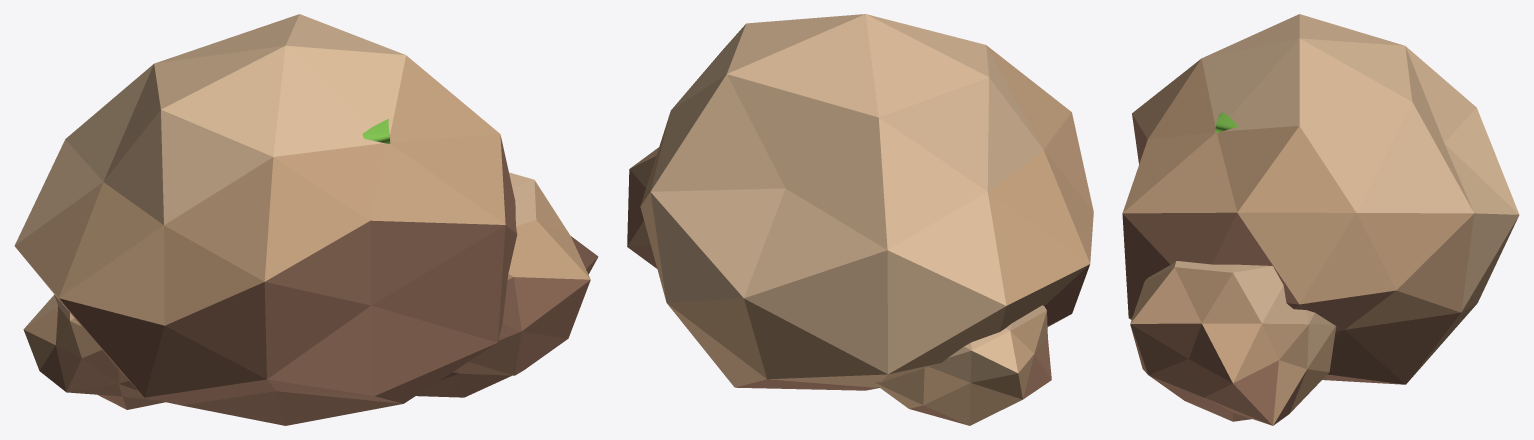
Rendered from rock_big.obj.
3 views of the same model, side by side, from view 1: azimuth 30°, elevation 25°; view 2: azimuth 150°, elevation 25°; view 3: azimuth 270°, elevation 25° (orthographic). The views are drawn at different scales.
Parts seen in each view (by area): view 1: rock_big_rock_dark, rock_big_rock_mid, rock_big_rock_light; view 2: rock_big_rock_light, rock_big_rock_mid, rock_big_rock_dark; view 3: rock_big_rock_mid, rock_big_rock_light, rock_big_rock_dark.
Boxes of the visible parts, bbox=[...] form: rock_big_rock_dark: bbox=[40, 136, 598, 425]; rock_big_rock_mid: bbox=[15, 55, 590, 370]; rock_big_rock_light: bbox=[15, 14, 536, 328]; rock_big_rock_light: bbox=[650, 14, 1046, 382]; rock_big_rock_mid: bbox=[627, 28, 1093, 425]; rock_big_rock_dark: bbox=[627, 169, 1089, 425]; rock_big_rock_mid: bbox=[1122, 58, 1518, 425]; rock_big_rock_light: bbox=[1174, 14, 1519, 368]; rock_big_rock_dark: bbox=[1122, 114, 1460, 425].
Bounding box in the file's own units: 1.95 × 1.41 × 1.49.
